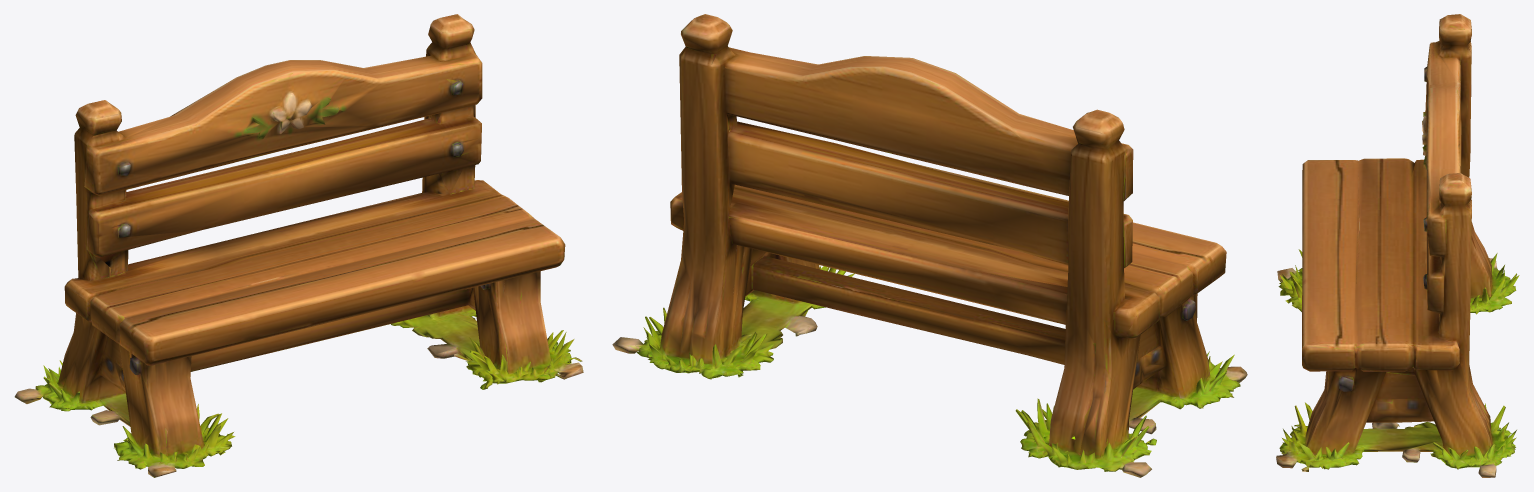
File: bench.glb
The picture shows the model from 3 angles, left to right: view 1: azimuth 30°, elevation 25°; view 2: azimuth 150°, elevation 25°; view 3: azimuth 270°, elevation 25°; orthographic projection. The views are drawn at different scales.
Visible parts, largest first — view 1: Mesh1.0; view 2: Mesh1.0; view 3: Mesh1.0.
Boxes of the visible parts, bbox=[...] form: Mesh1.0: bbox=[14, 14, 583, 477]; Mesh1.0: bbox=[612, 14, 1247, 477]; Mesh1.0: bbox=[1276, 14, 1519, 477].
Size of the model in its own units: 1.9 by 1.12 by 0.9043.
Materials: 1 (1 with a texture image).
